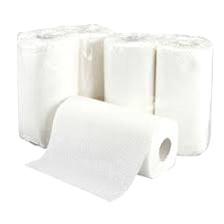tissue: (20, 89, 186, 206), (97, 25, 220, 162), (10, 16, 121, 153)
